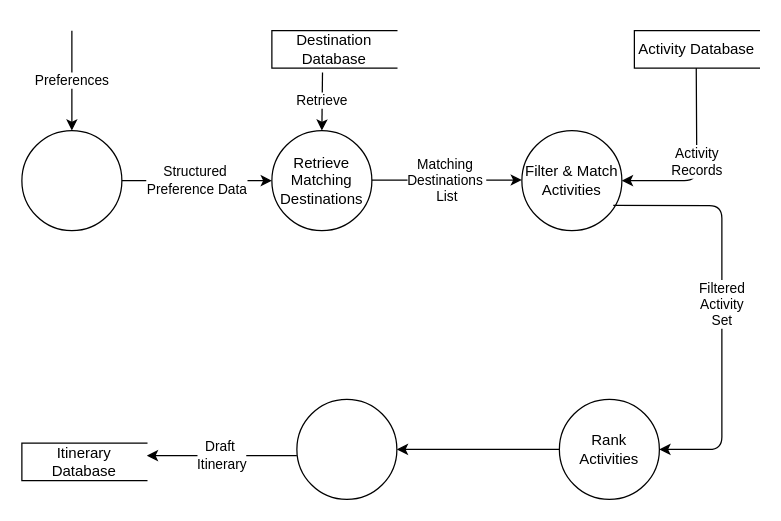
Some shapes in this 781 by 521 pixel diagram are drawn without their labels. The centre of each missing label's shape, as x and y in pixels:
"Generate Draft Multi-Day Itinerary" belongs at point 346,448.
"Validate & Structure User Preferences" belongs at point 71,180.
